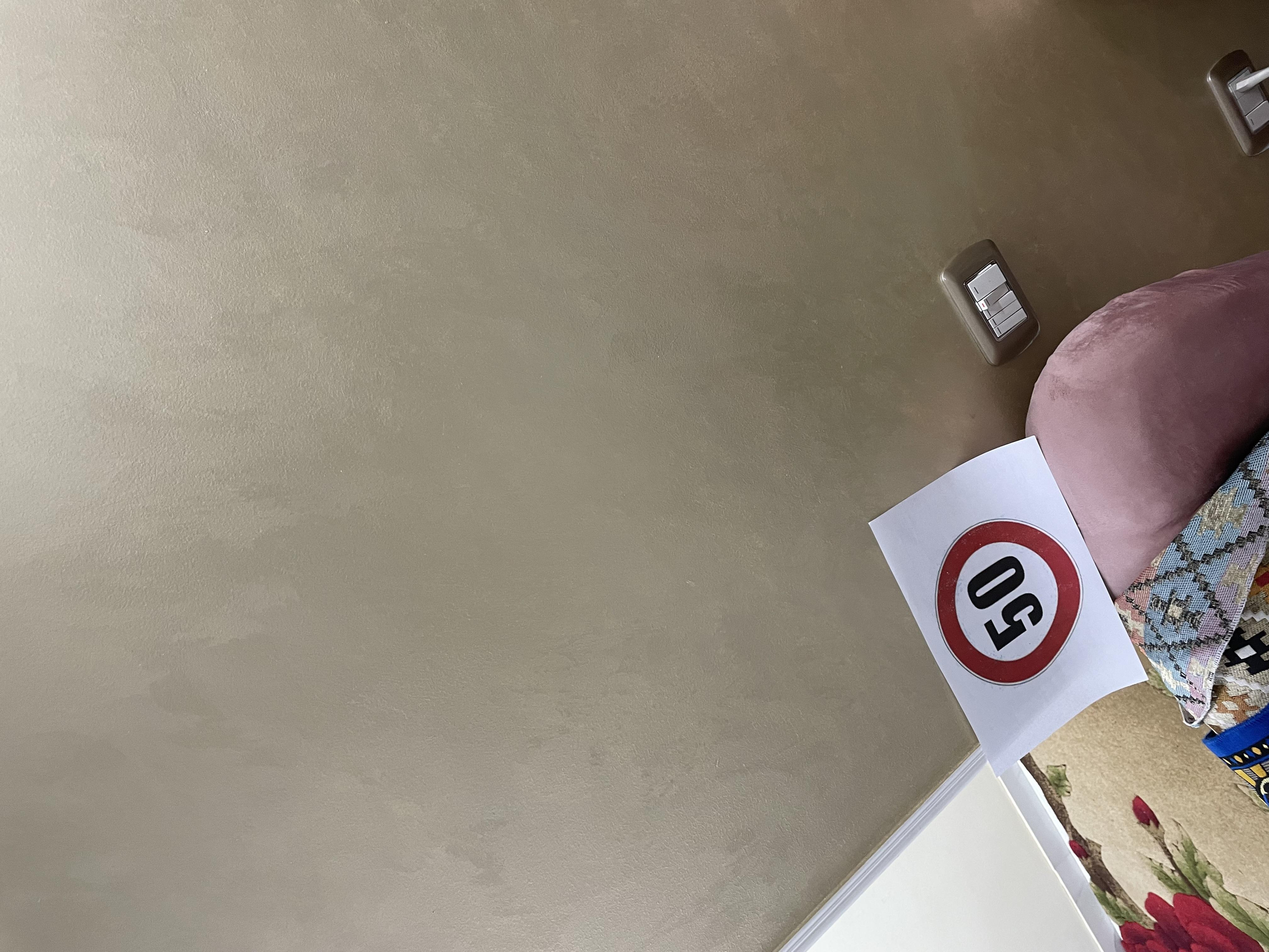50-Speed: (346, 696, 584, 811)
